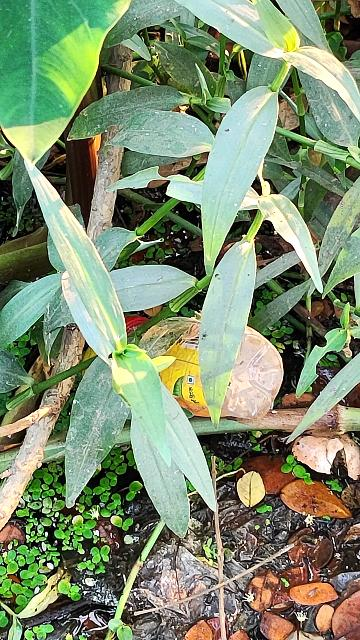bottle: (113, 310, 297, 426)
